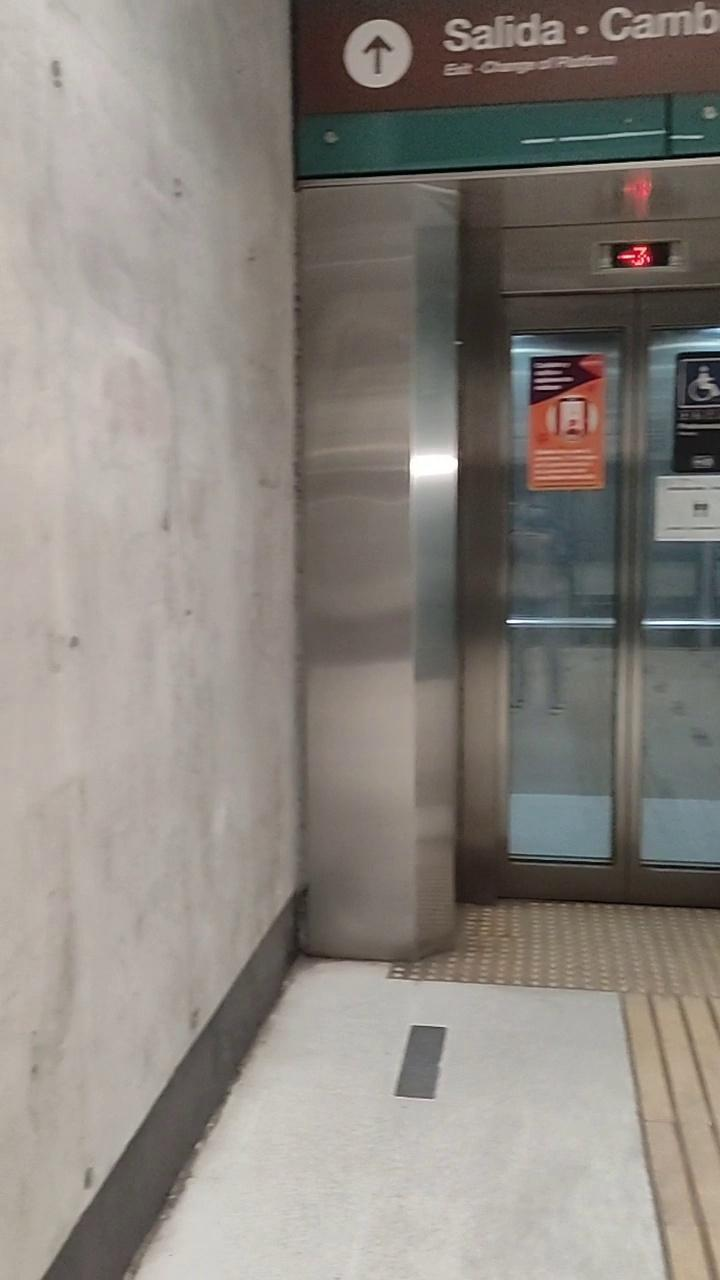handicapped symbol: (674, 355, 720, 418)
up arrow: (358, 30, 398, 80)
